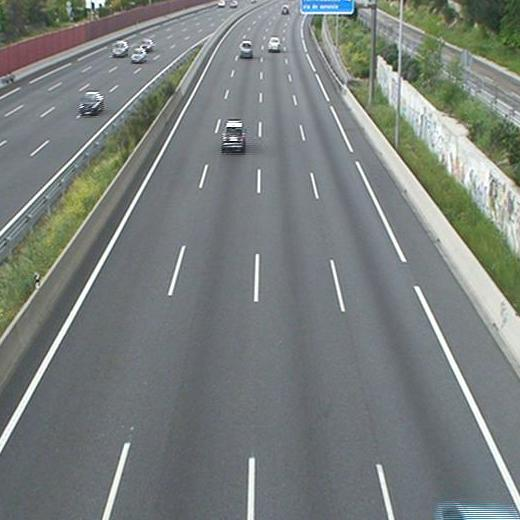car: (222, 120, 247, 155), (239, 40, 253, 58), (268, 37, 281, 52)
